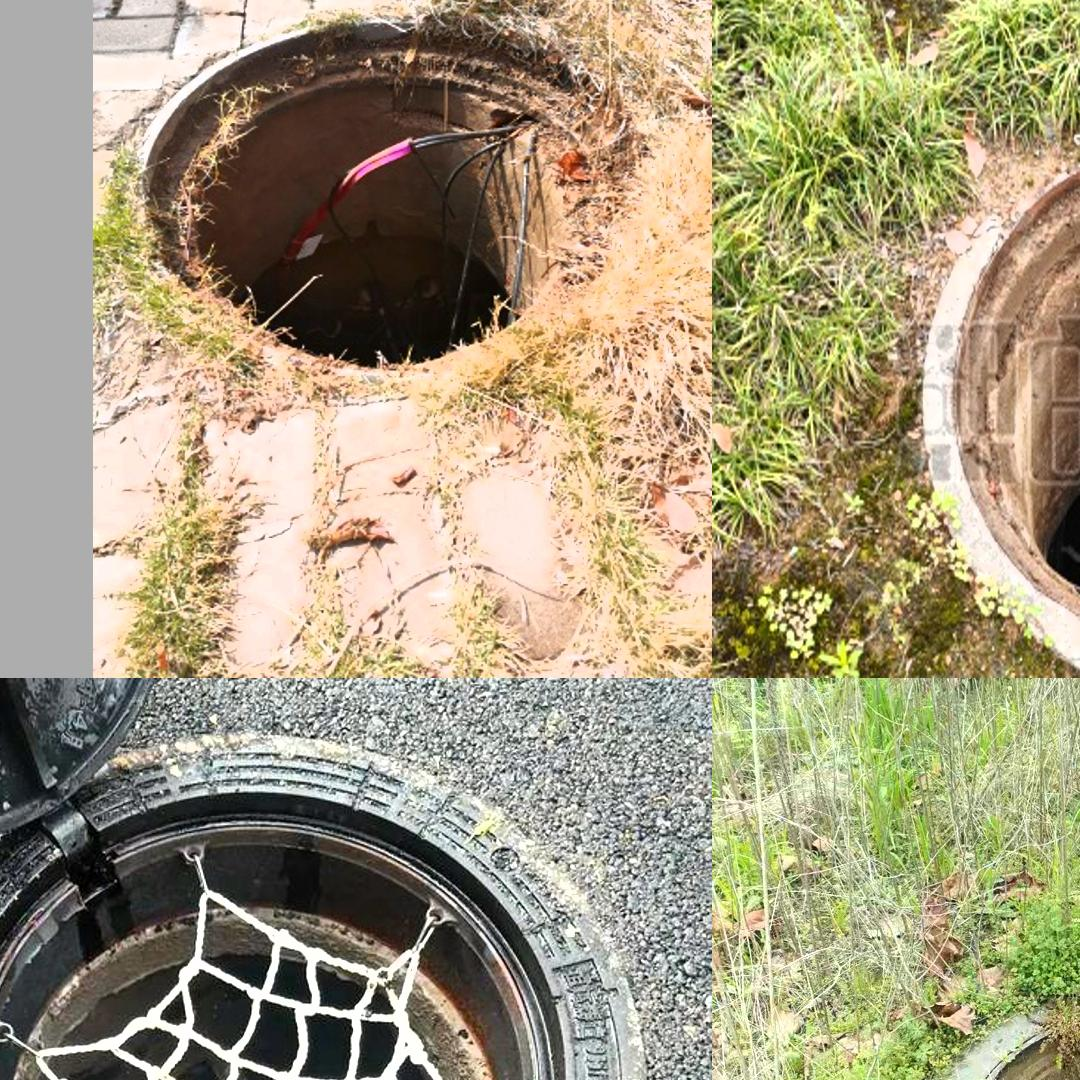lose: (0, 738, 647, 1080), (131, 9, 637, 381), (921, 102, 1080, 658), (963, 1009, 1080, 1080)
